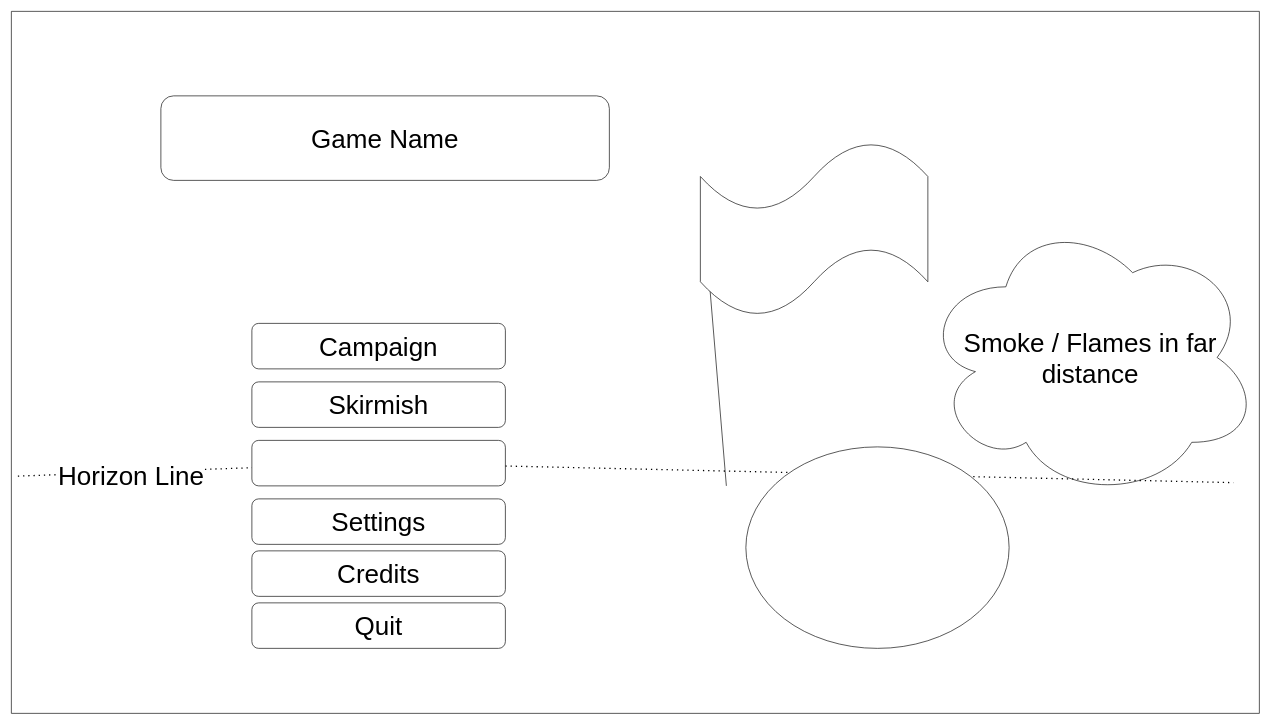
The diagram is 1271 pixels wide and 725 high, and some of its shapes have lost their labels. Each missing label, with the centre of its shape:
Codex: point 378,463
Cracked SM helmet (foreground): point 877,547
Tattered IOM banner (medium background): point 814,229
